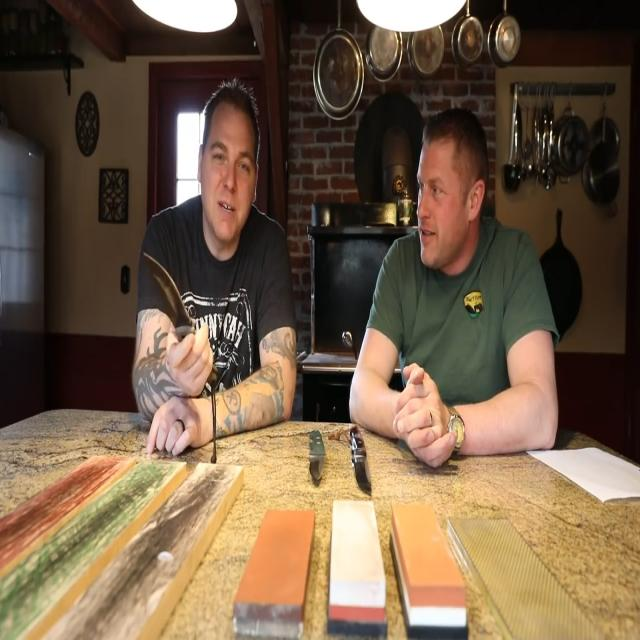knife: (142, 248, 198, 363), (347, 418, 381, 508), (307, 428, 329, 503)
